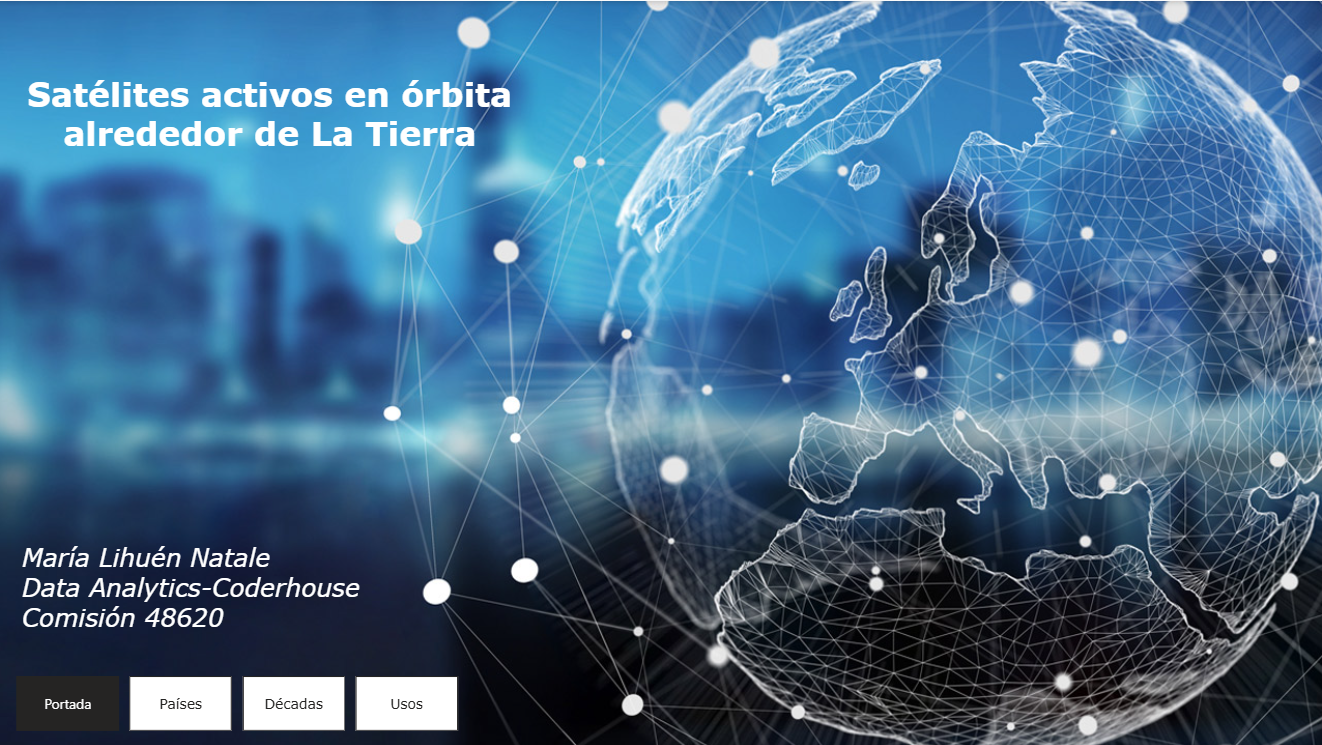

This screenshot's page, from the dashboard's own definition file:
{"tool":"powerbi","page":{"name":"Portada","canvas":[1280,720],"ordinal":0},"visuals":[{"type":"pageNavigator","box":[16.8,651.8,426.7,53.8],"z":0},{"type":"textbox","box":[16.8,65.5,488.8,90.7],"z":1000},{"type":"textbox","box":[16.8,517.4,337.6,119.3],"z":2000}]}

Visuals, with their boxes in screenshot pixels (x1, y1, x2, y2), scaled from the page's 1280x720 canvas onto the 1322x745 screenshot:
pageNavigator: BBox(17, 674, 458, 730)
textbox: BBox(17, 68, 522, 162)
textbox: BBox(17, 535, 366, 659)
